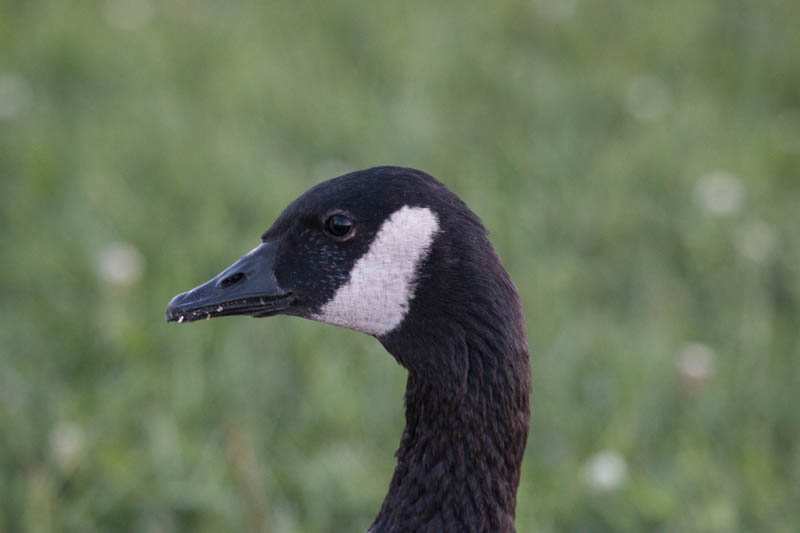goose-head: (166, 165, 525, 341)
